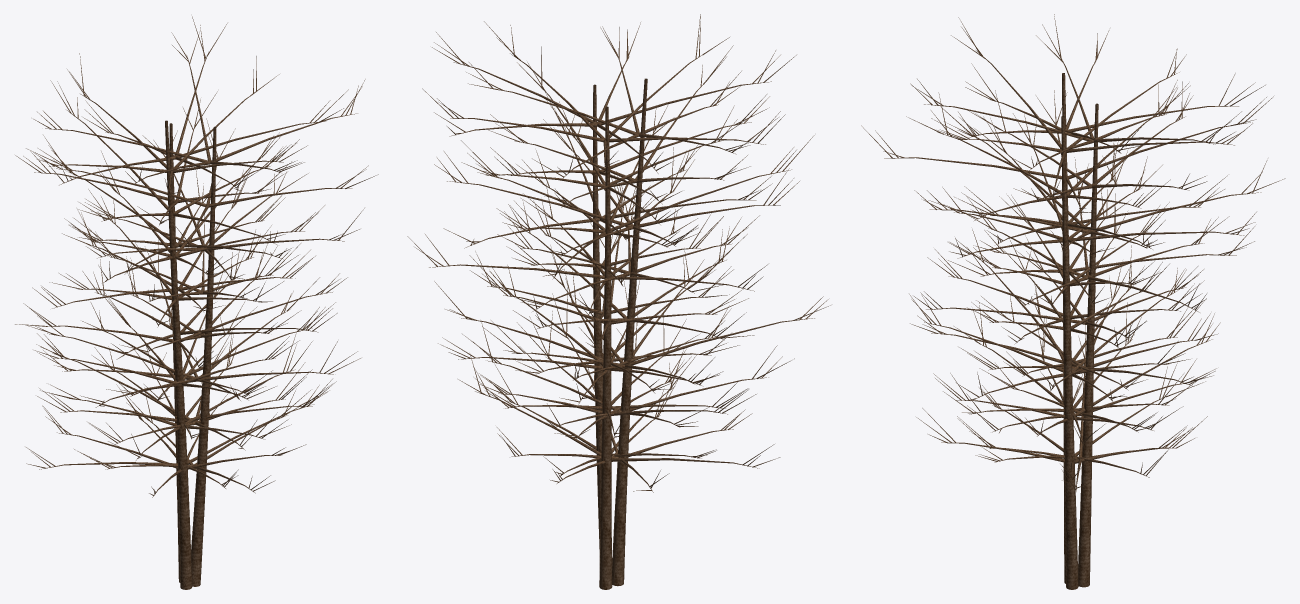
The model's file is alder.obj.
3 views of the same model, side by side, from view 1: azimuth 30°, elevation 25°; view 2: azimuth 150°, elevation 25°; view 3: azimuth 270°, elevation 25° (orthographic). The views are drawn at different scales.
Parts seen in each view (by area): view 1: alder; view 2: alder; view 3: alder.
Boxes of the visible parts, x1=… form: alder: x1=15, y1=16, x2=378, y2=589; alder: x1=407, y1=14, x2=830, y2=589; alder: x1=861, y1=14, x2=1285, y2=589.
Size of the model in its own units: 8.81 by 12.51 by 9.33.
2 materials, 2 textured.
